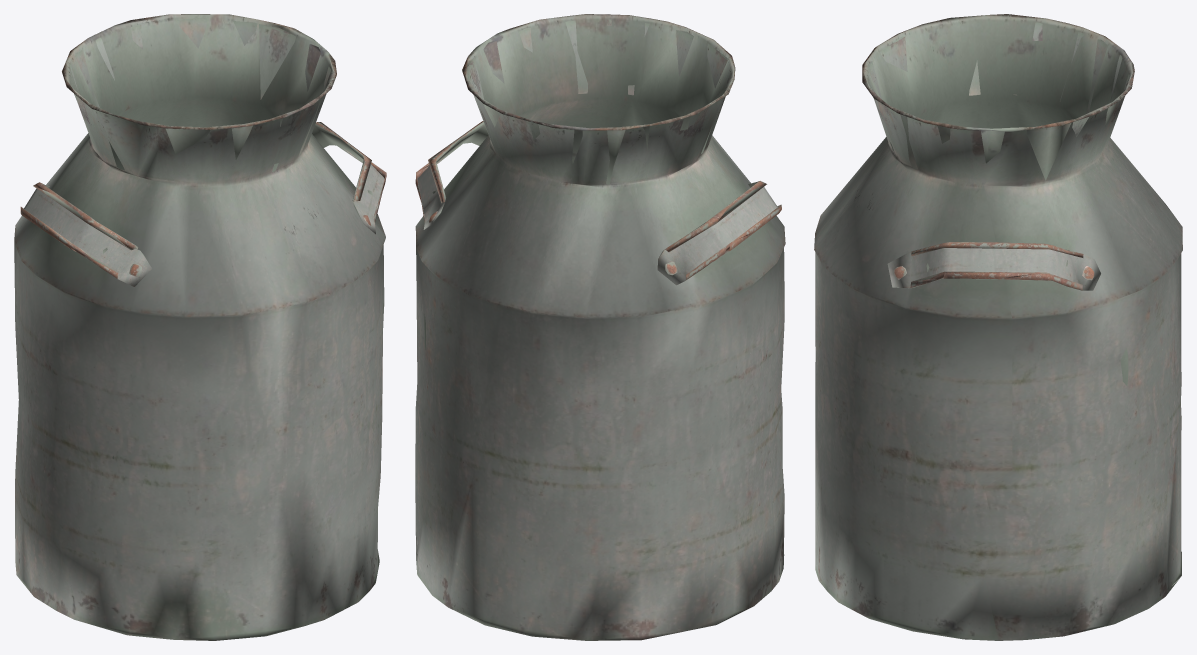
The model's file is metal_jug_1k_LOD2.fbx.
3 views of the same model, side by side, from view 1: azimuth 30°, elevation 25°; view 2: azimuth 150°, elevation 25°; view 3: azimuth 270°, elevation 25° (orthographic).
Visible parts, largest first — view 1: metal_jug; view 2: metal_jug; view 3: metal_jug.
Boxes of the visible parts, x1,y1,x2,y2 form: metal_jug: [14, 14, 386, 640]; metal_jug: [415, 14, 785, 640]; metal_jug: [814, 14, 1182, 640].
Size of the model in its own units: 19.66 by 28.74 by 19.48.
Materials: 1 (1 with a texture image).
